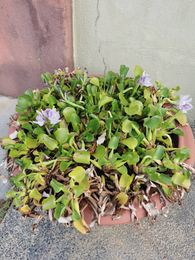water_hyacinth: (5, 69, 193, 232)
